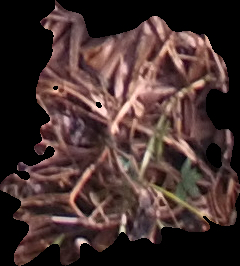soil: (2, 2, 238, 266)
